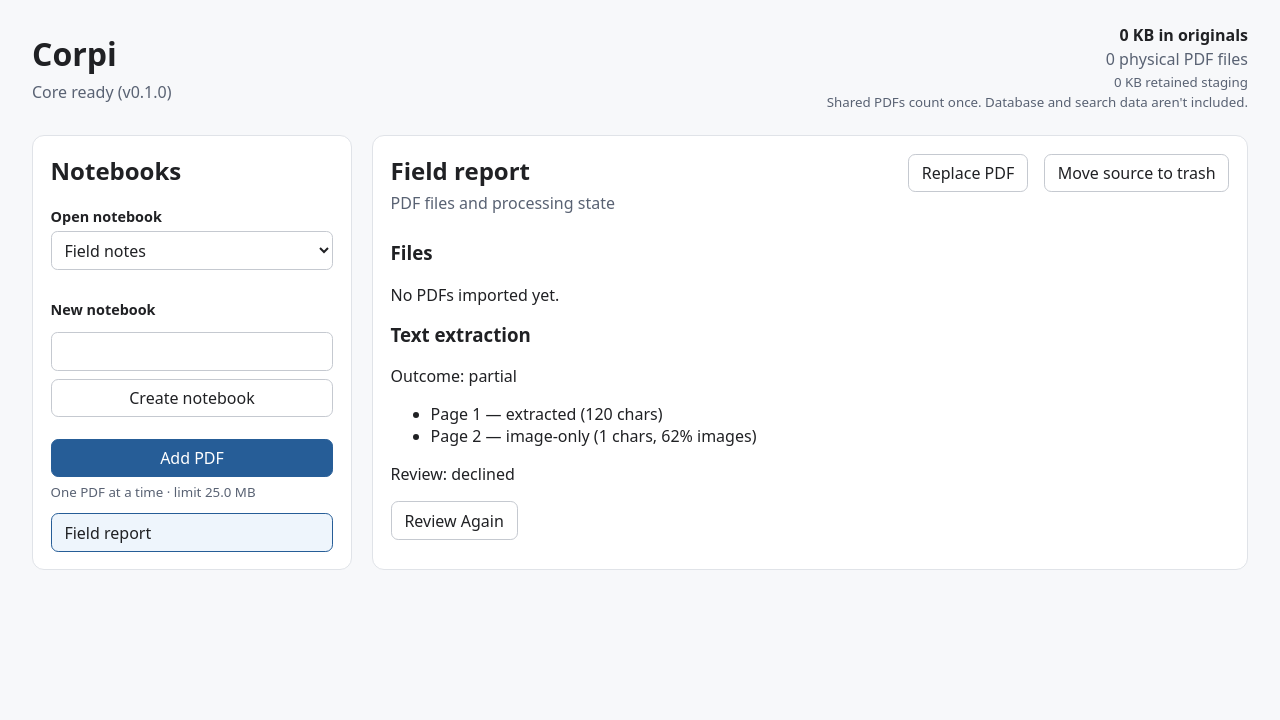
Scenario: reopens the decision through Review Again
Step 1. Click the button "Review Again" → (454, 521), box [391, 501, 518, 540]
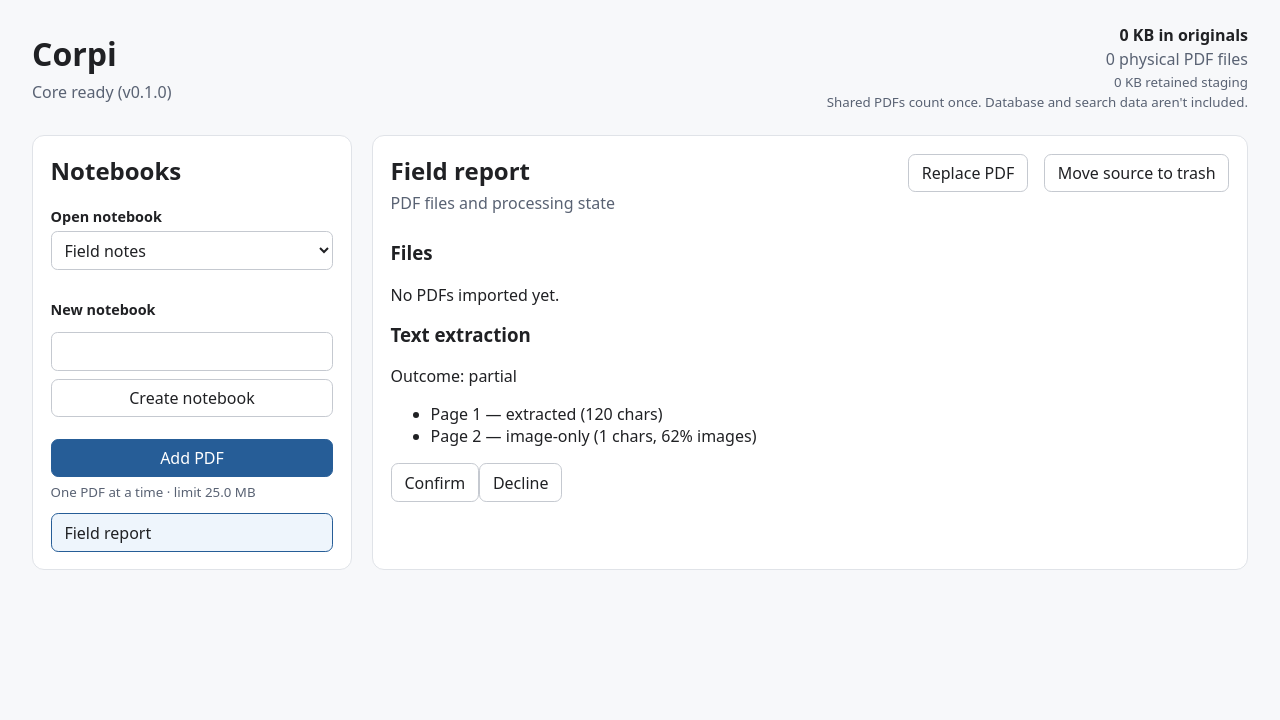
Result: the button "Confirm" is shown at [391, 463, 479, 502]
